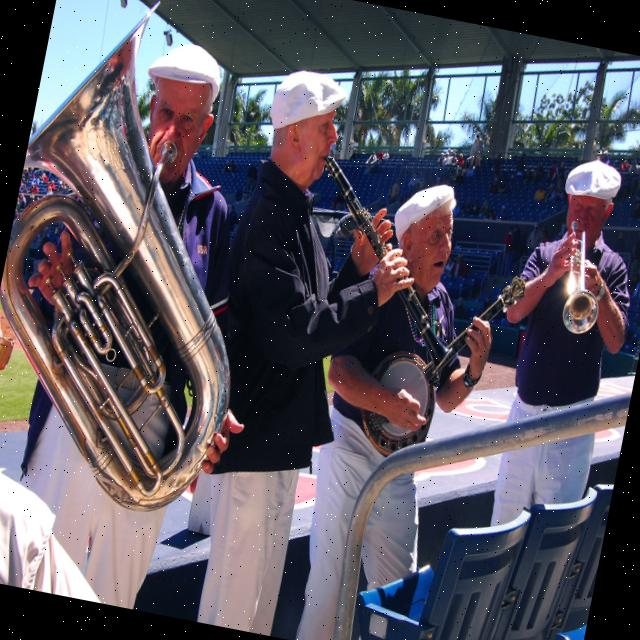clarinet: (283, 148, 488, 374)
